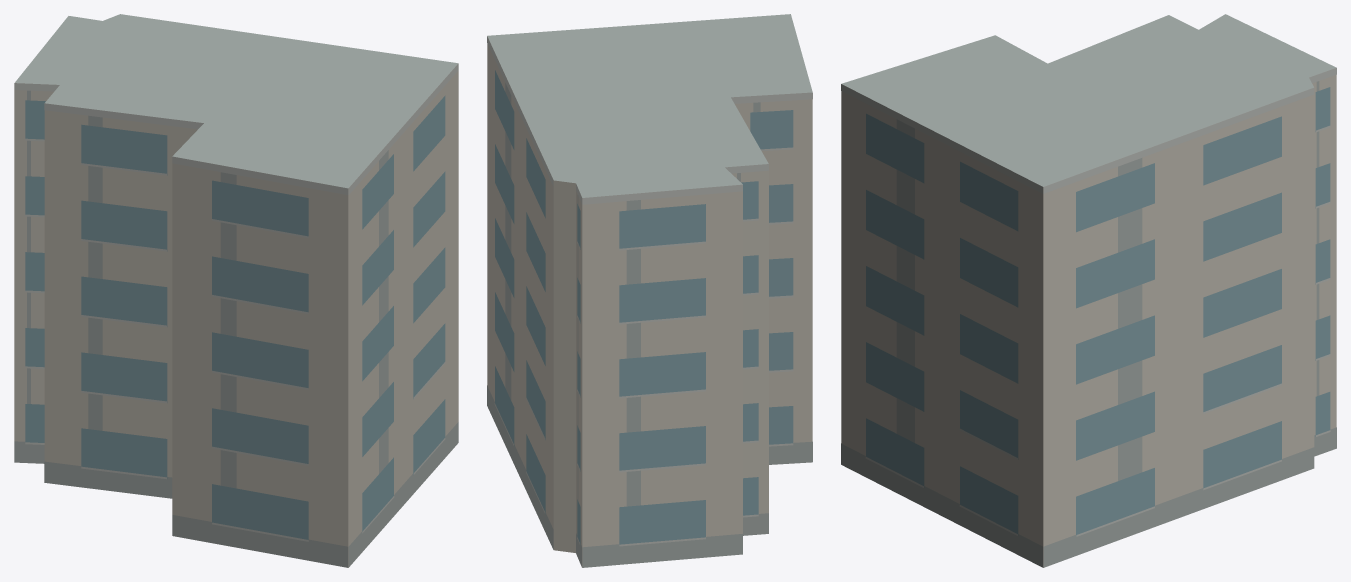
Rendered from survey-upis-32627020.glb.
The picture shows the model from 3 angles, left to right: view 1: azimuth 30°, elevation 25°; view 2: azimuth 150°, elevation 25°; view 3: azimuth 270°, elevation 25°; orthographic projection. The views are drawn at different scales.
Parts seen in each view (by area): view 1: survey-upis-32627020.tmp; view 2: survey-upis-32627020.tmp; view 3: survey-upis-32627020.tmp.
Part boxes in pixels (bbox=[...]): survey-upis-32627020.tmp: bbox=[14, 14, 458, 567]; survey-upis-32627020.tmp: bbox=[487, 14, 812, 567]; survey-upis-32627020.tmp: bbox=[841, 14, 1336, 567].
Bounding box in the file's own units: 12.97 × 13.3 × 15.7.
